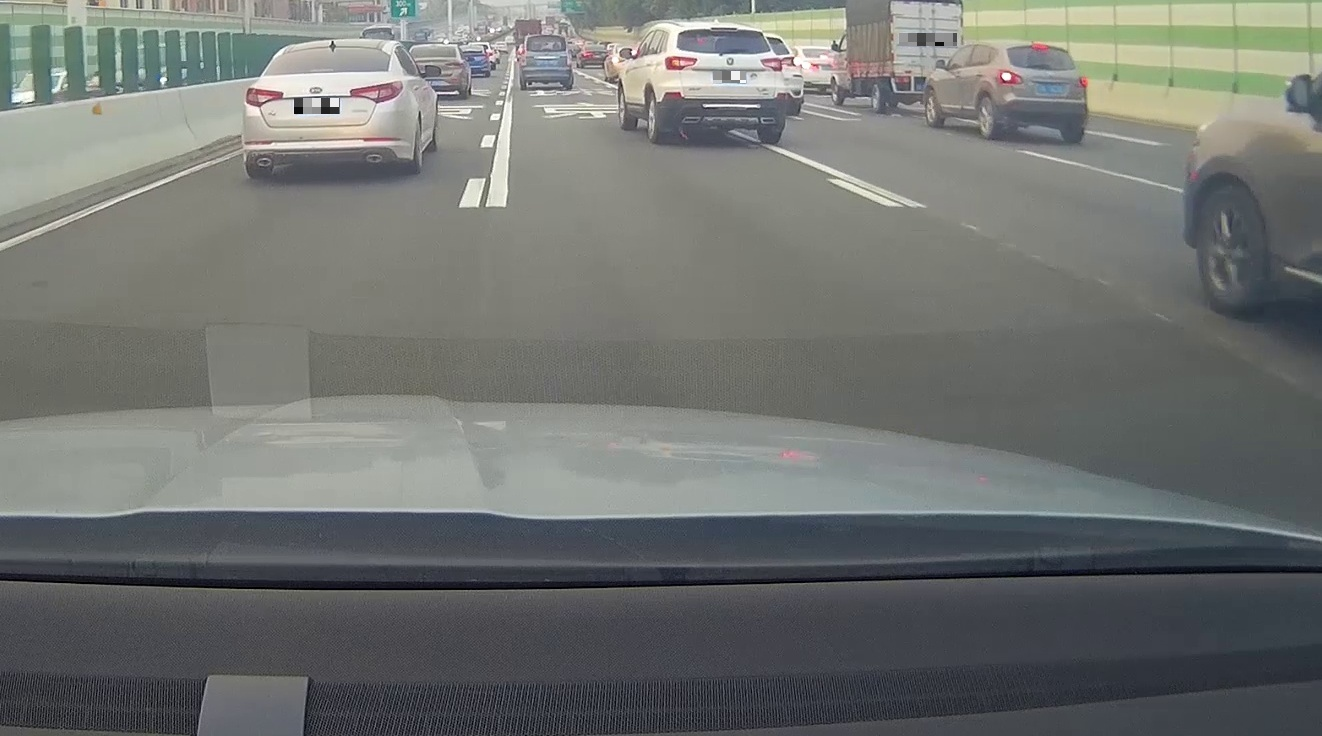L_light: (244, 87, 284, 108), (665, 56, 697, 70), (997, 70, 1024, 84), (520, 50, 526, 66)
R_light: (349, 79, 404, 104), (760, 57, 782, 71), (1076, 76, 1087, 88), (567, 50, 572, 66)
T_light: (709, 27, 738, 32), (309, 68, 334, 73), (1032, 43, 1048, 50), (539, 34, 551, 37)
day-left: (658, 23, 785, 144), (995, 41, 1087, 141)
day-no: (241, 38, 419, 179), (518, 34, 573, 90)
plate_1: (294, 98, 340, 114)
plate_2: (713, 71, 746, 83)
plate_3: (899, 33, 957, 46)
